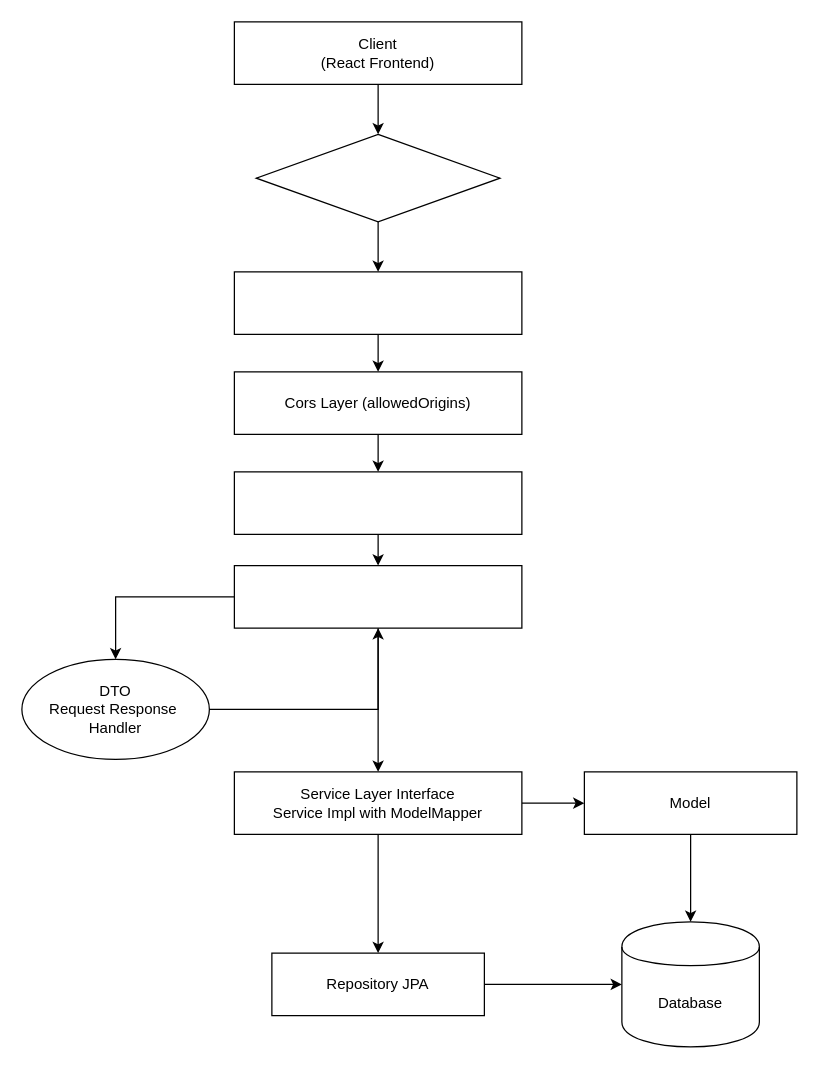
Some shapes in this 819 by 1069 pixel diagram are drawn without their labels. Each missing label, with the centre of its shape:
"Controller" goes at (x=377, y=596).
"DentalApplication (Spring boot)" goes at (x=377, y=302).
"HTTP Request" goes at (x=377, y=177).
"Security Layer (JWT)" goes at (x=377, y=502).
